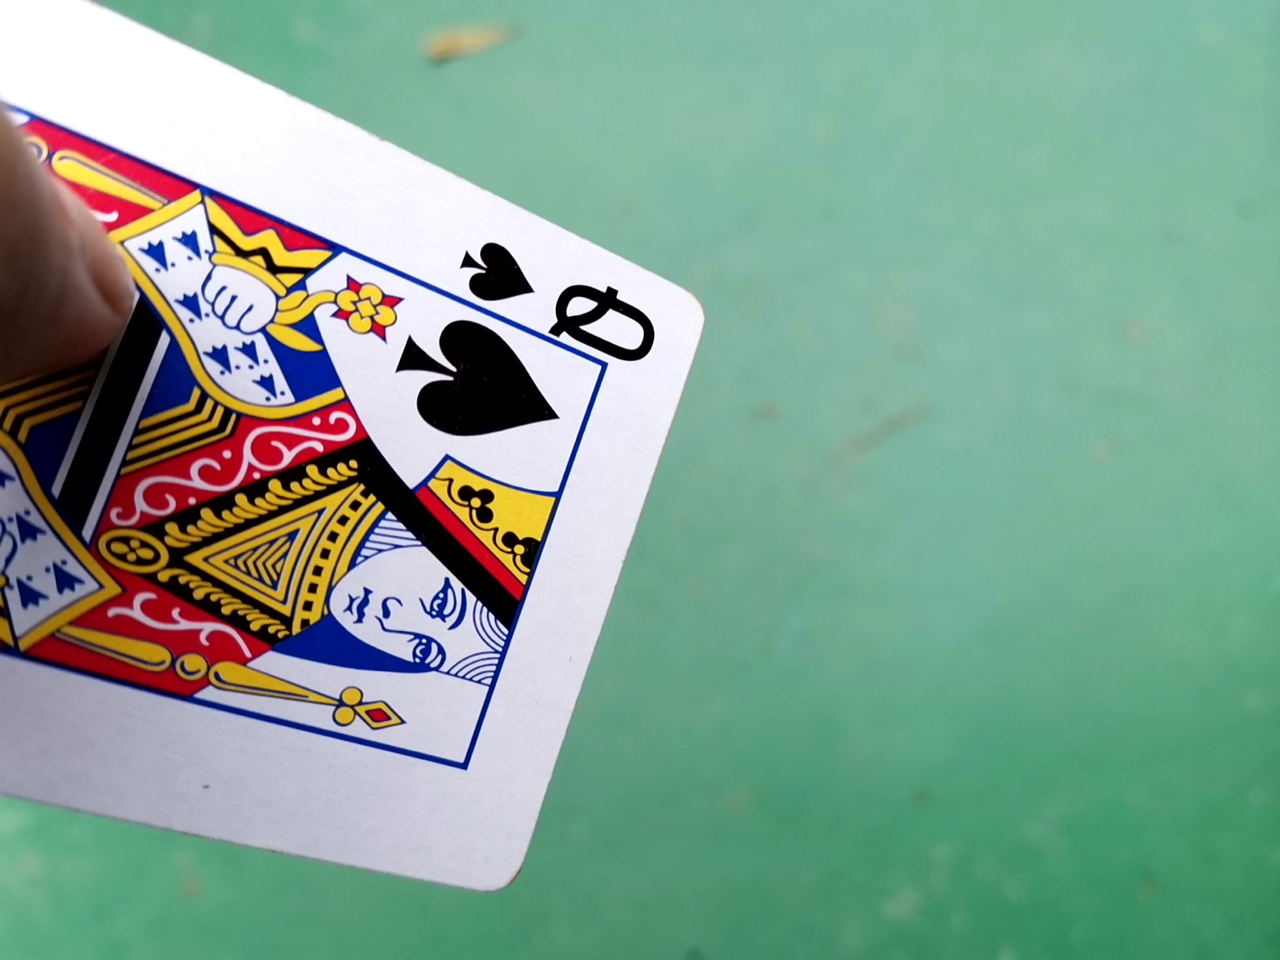ht q: (0, 9, 755, 915)
